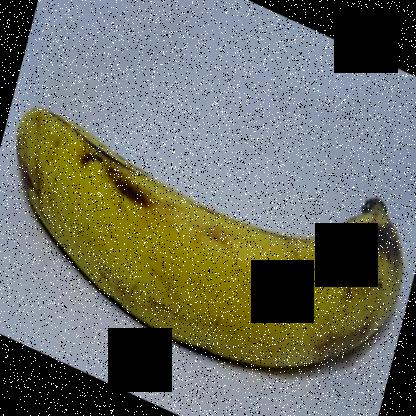ripe: (4, 98, 416, 380)
